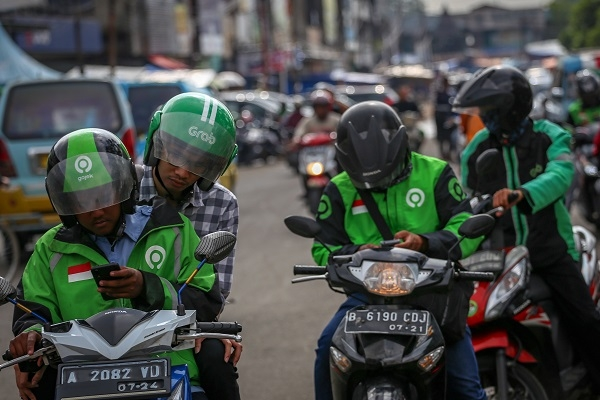plate: (59, 364, 168, 396), (345, 308, 430, 336)
